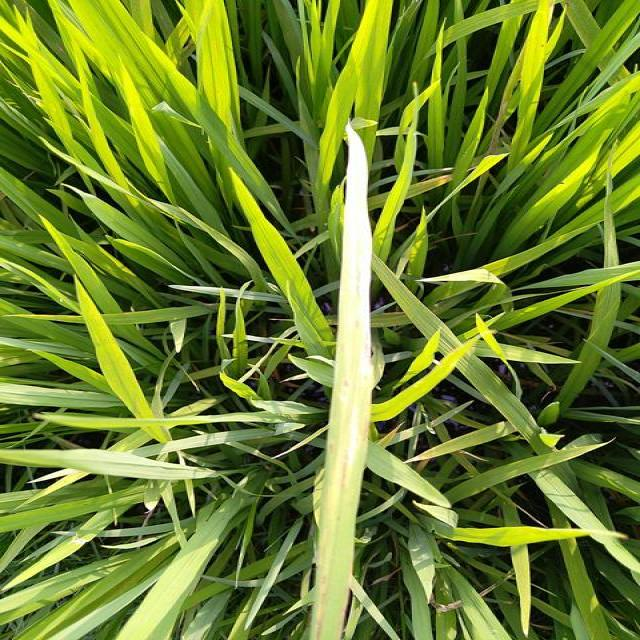Leaf Blight: (311, 121, 376, 639)
